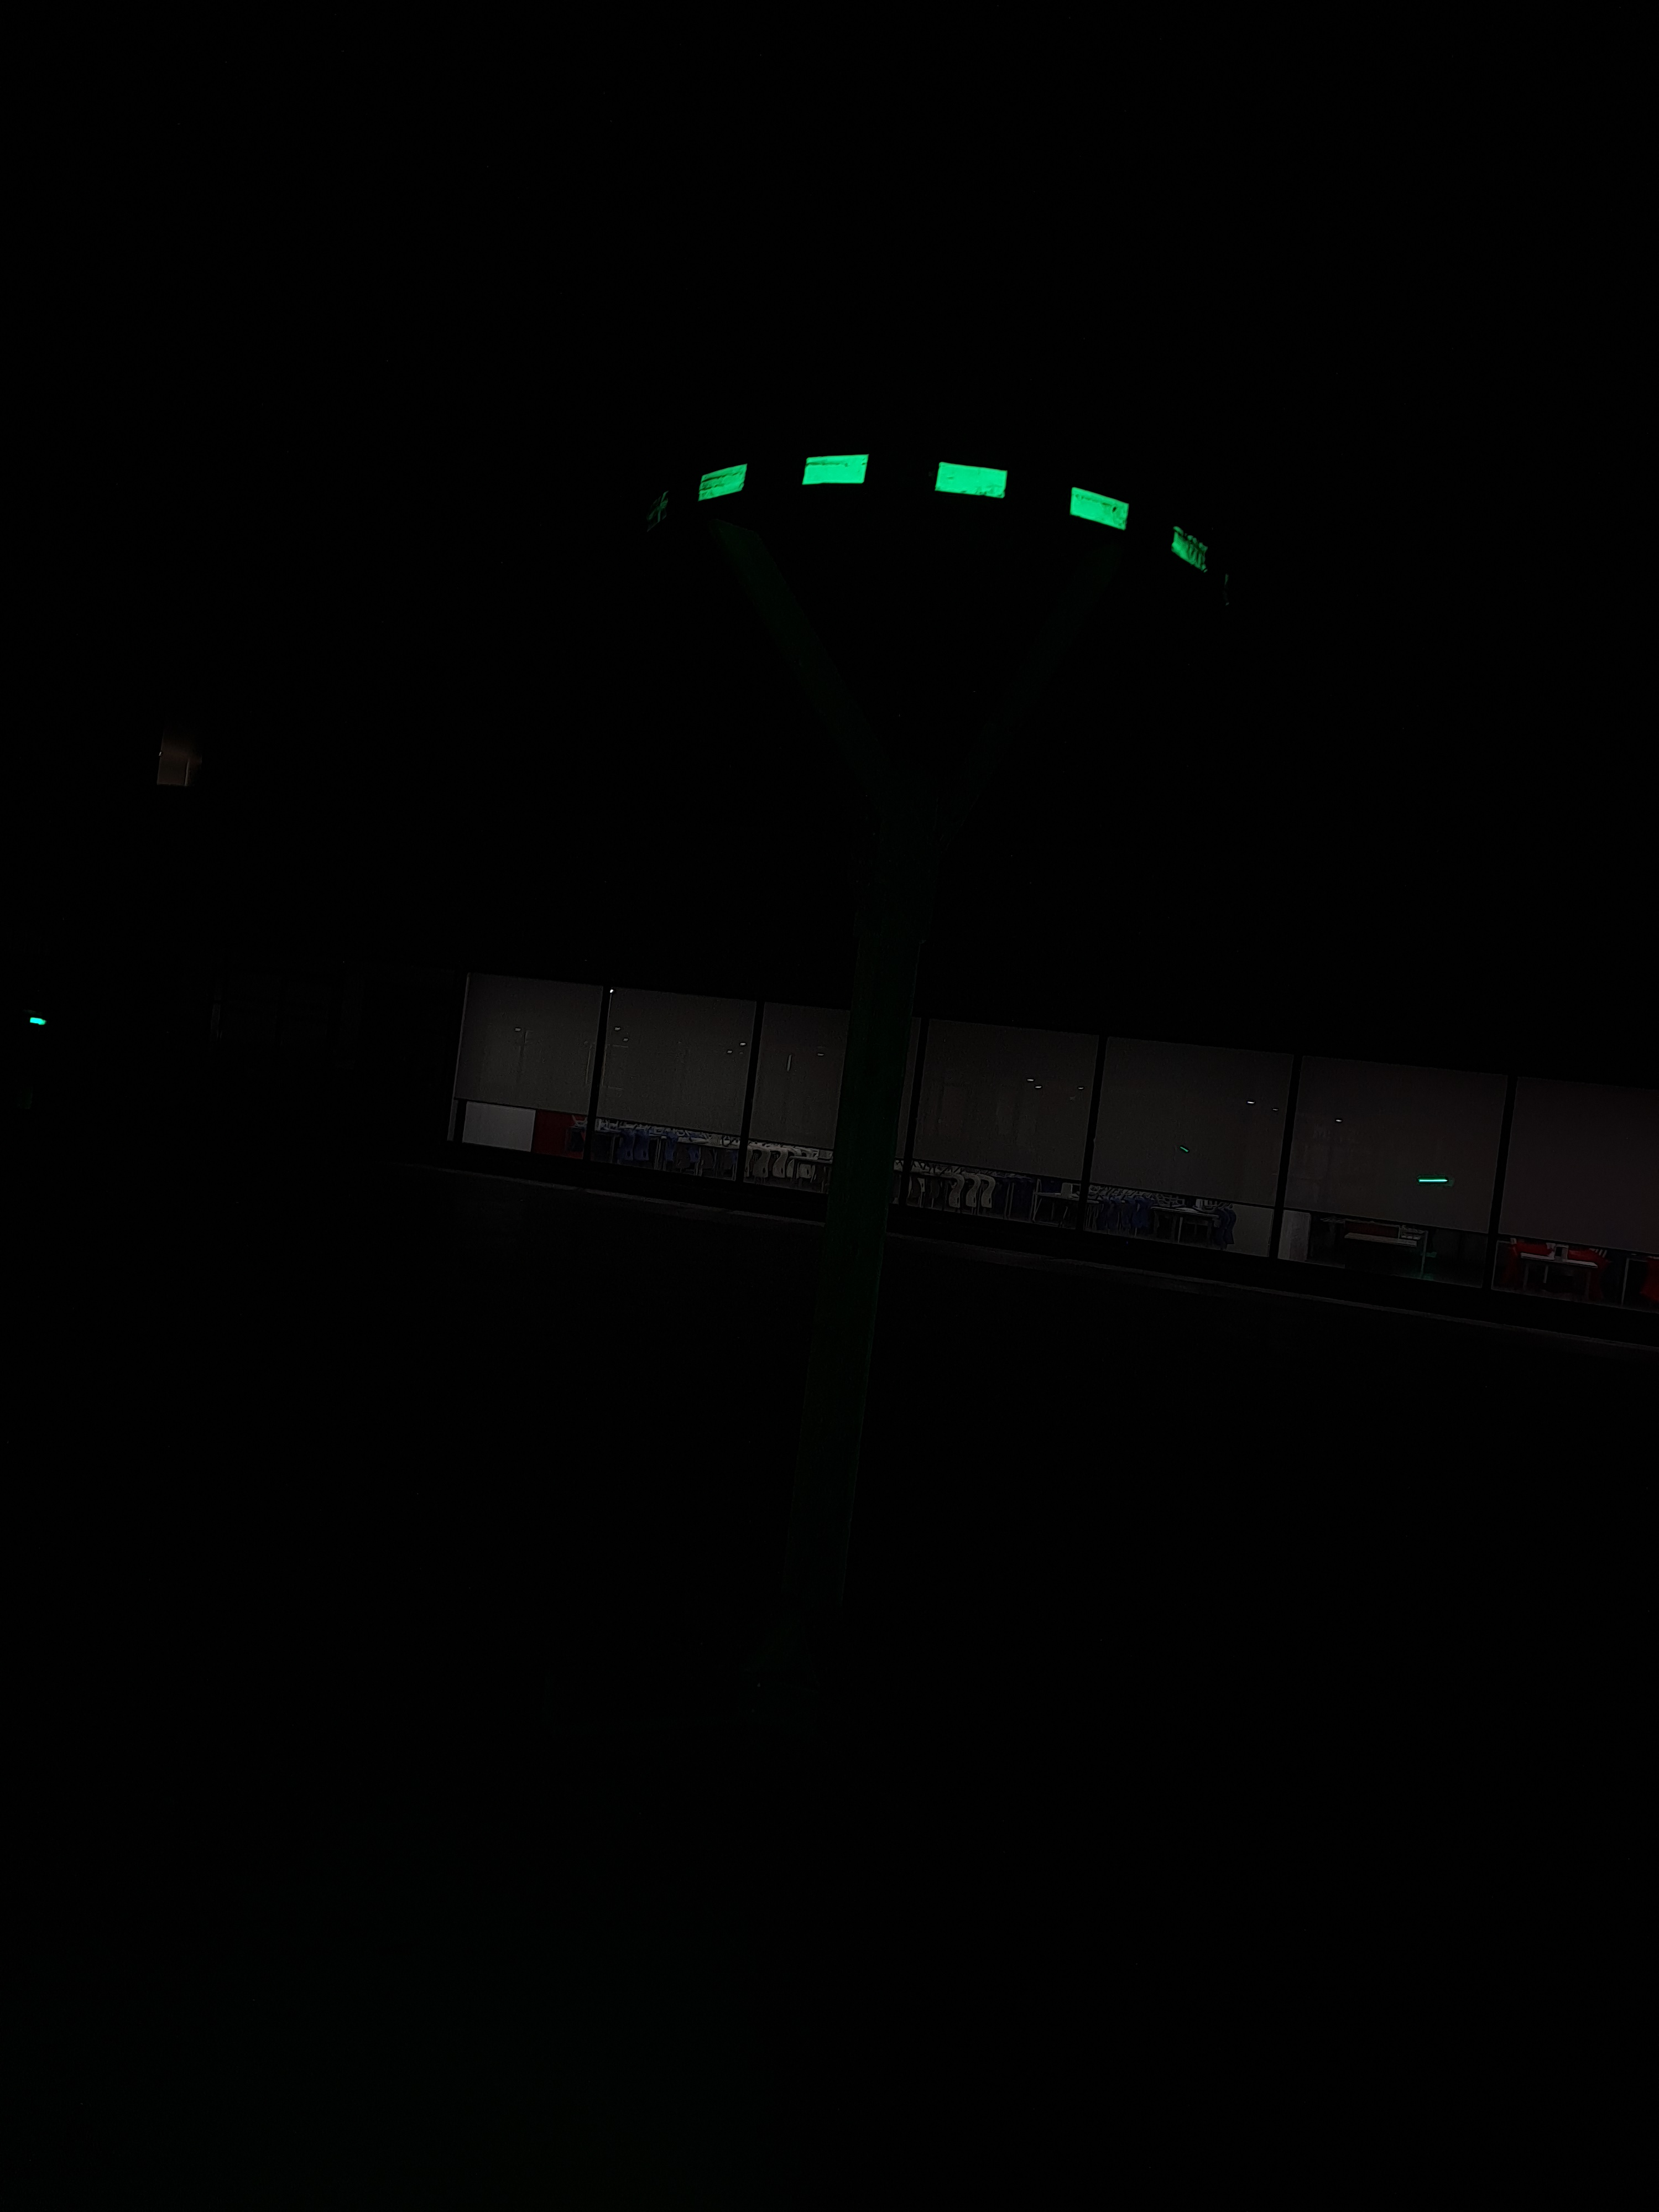hoop: (692, 427, 1216, 585)
